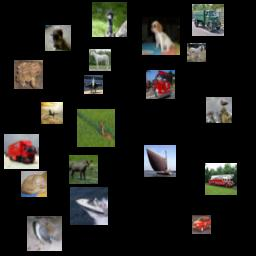airplane: (41, 102, 63, 124), (84, 75, 103, 94)
automobile: (192, 215, 211, 234)
bird: (92, 2, 127, 37), (27, 216, 62, 251), (206, 97, 232, 123)
cat: (21, 171, 47, 197)
deer: (77, 109, 115, 147), (69, 155, 98, 184)
dog: (142, 17, 180, 55), (45, 25, 71, 51)
frog: (14, 60, 43, 89)
ship: (70, 187, 108, 225), (144, 145, 176, 177)
truck: (4, 134, 39, 169), (192, 4, 224, 36), (205, 163, 237, 195), (146, 70, 175, 99)
